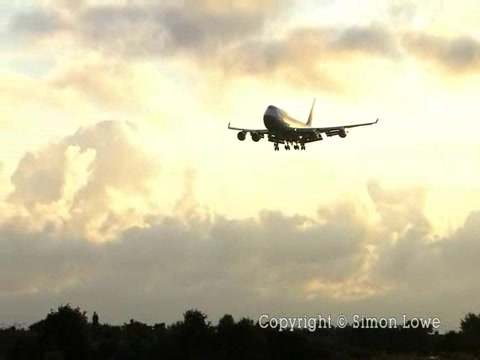aeroplane: (227, 98, 379, 152)
